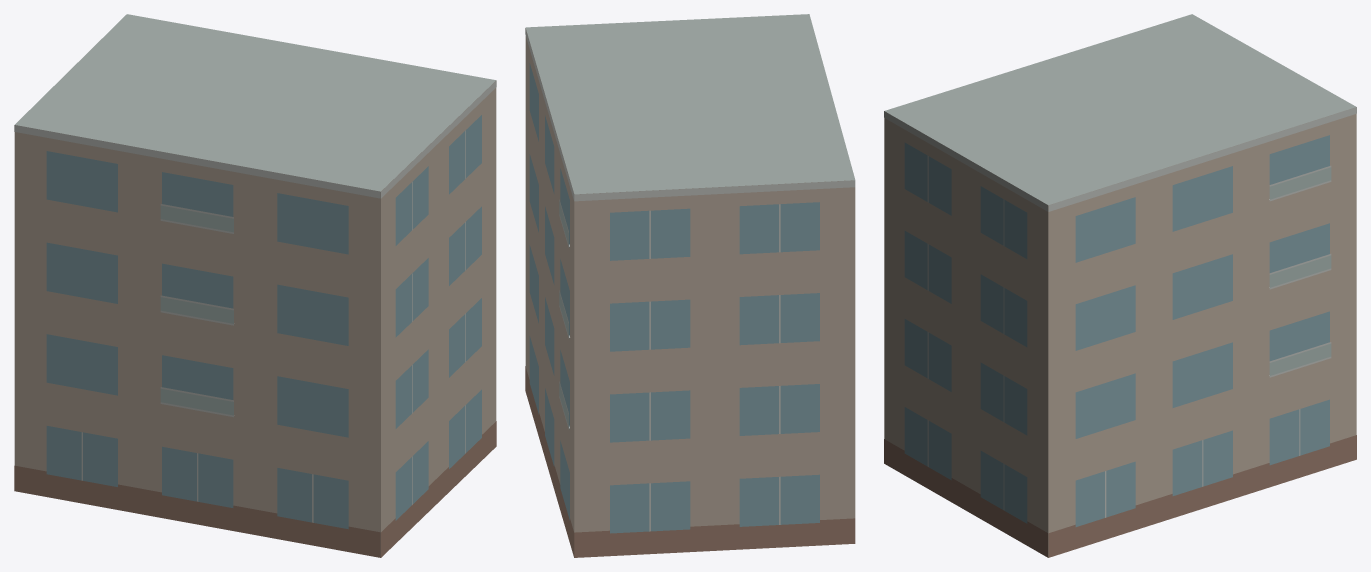
The model's file is survey-upis-32680015.glb.
3 renders of one model, left to right at view 1: azimuth 30°, elevation 25°; view 2: azimuth 150°, elevation 25°; view 3: azimuth 270°, elevation 25°, orthographic. The views are drawn at different scales.
Visible parts, largest first — view 1: survey-upis-32680015.tmp; view 2: survey-upis-32680015.tmp; view 3: survey-upis-32680015.tmp.
Boxes of the visible parts, x1,y1,x2,y2 form: survey-upis-32680015.tmp: (14,14,496,557); survey-upis-32680015.tmp: (525,14,855,557); survey-upis-32680015.tmp: (884,14,1356,557).
Bounding box in the file's own units: 14.78 × 12.7 × 15.44.
